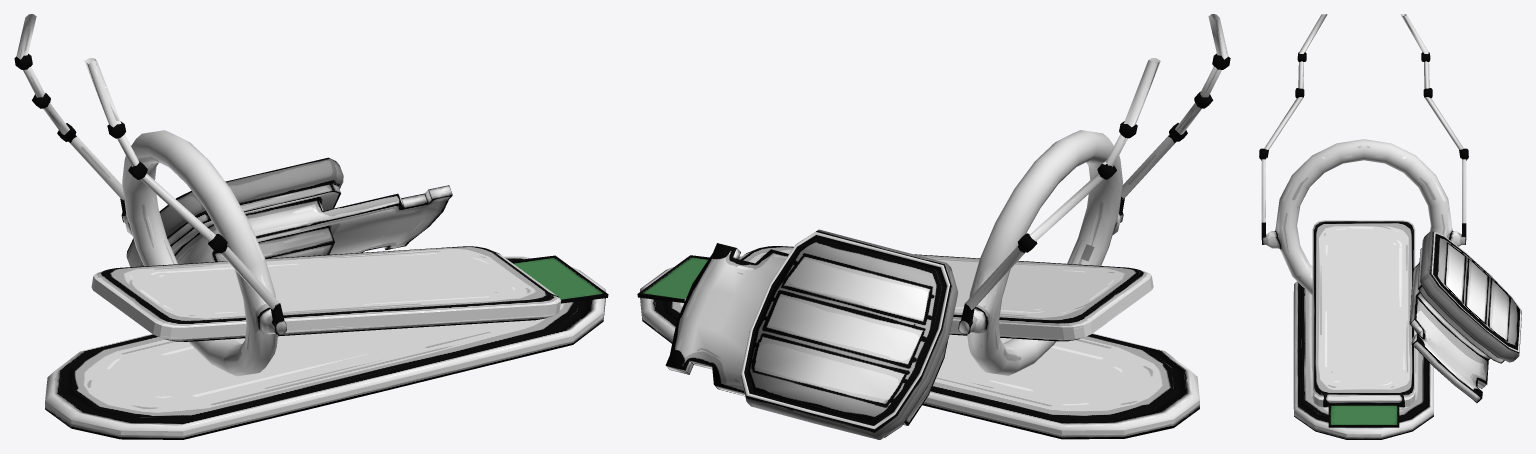
The model's file is medical_bed03.fbx.
The picture shows the model from 3 angles, left to right: view 1: azimuth 30°, elevation 25°; view 2: azimuth 150°, elevation 25°; view 3: azimuth 270°, elevation 25°; orthographic projection. The views are drawn at different scales.
Parts seen in each view (by area): view 1: hosp_bed_broken02; view 2: hosp_bed_broken02; view 3: hosp_bed_broken02.
Part boxes in pixels (x1=…): hosp_bed_broken02: x1=14, y1=14, x2=608, y2=439; hosp_bed_broken02: x1=637, y1=14, x2=1230, y2=439; hosp_bed_broken02: x1=1259, y1=14, x2=1521, y2=439.
Size of the model in its own units: 529 by 359 by 338.
